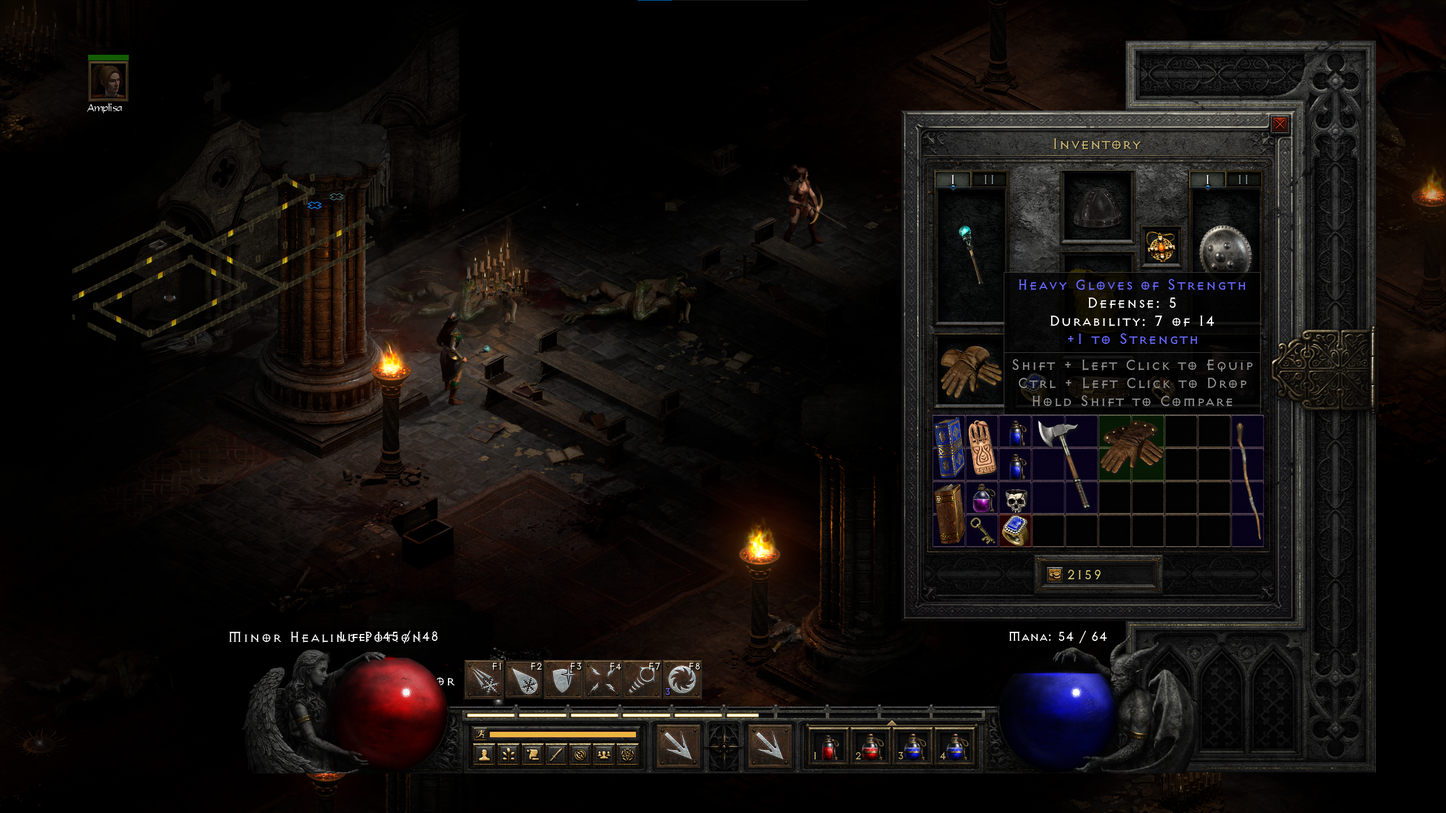tooltip: (1004, 273, 1261, 414)
